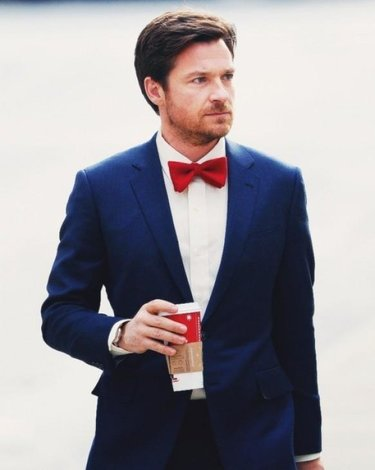bow: (164, 150, 232, 198)
